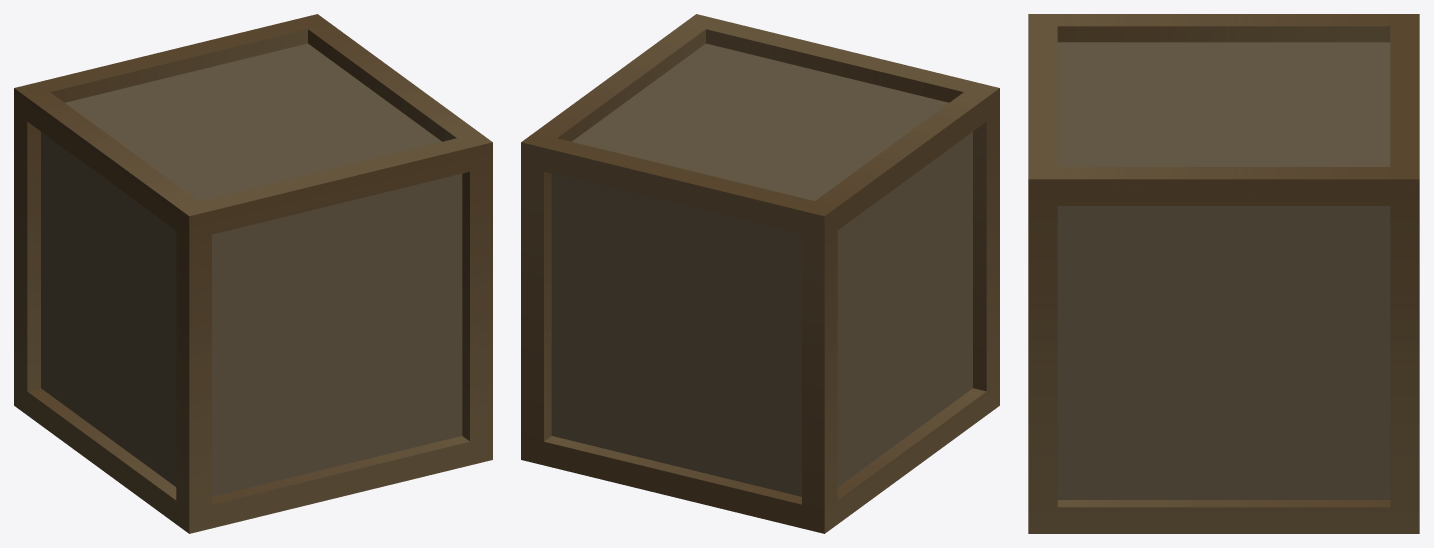
File: Crate_1B_LOD1.fbx
The picture shows the model from 3 angles, left to right: view 1: azimuth 30°, elevation 25°; view 2: azimuth 150°, elevation 25°; view 3: azimuth 270°, elevation 25°; orthographic projection. The views are drawn at different scales.
Visible parts, largest first — view 1: polySurface9643; view 2: polySurface9643; view 3: polySurface9643.
Part boxes in pixels (box(x1,y1,x2,y2)): polySurface9643: box(14, 14, 492, 533); polySurface9643: box(521, 14, 999, 533); polySurface9643: box(1028, 14, 1419, 533).
Size of the model in its own units: 122 by 122 by 122.
